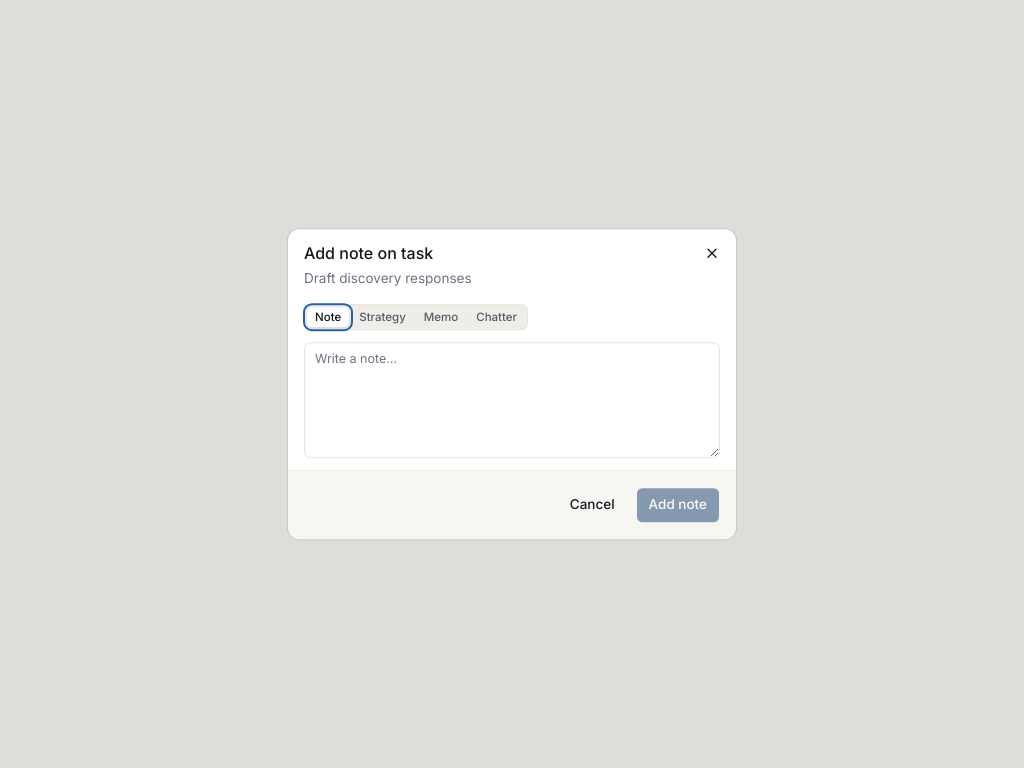
Test: AddNoteOnEntityDialog - form behavior › a failed submit keeps the typed text and the chosen type
Click the button "Strategy": (382,317) [351,307,414,327]
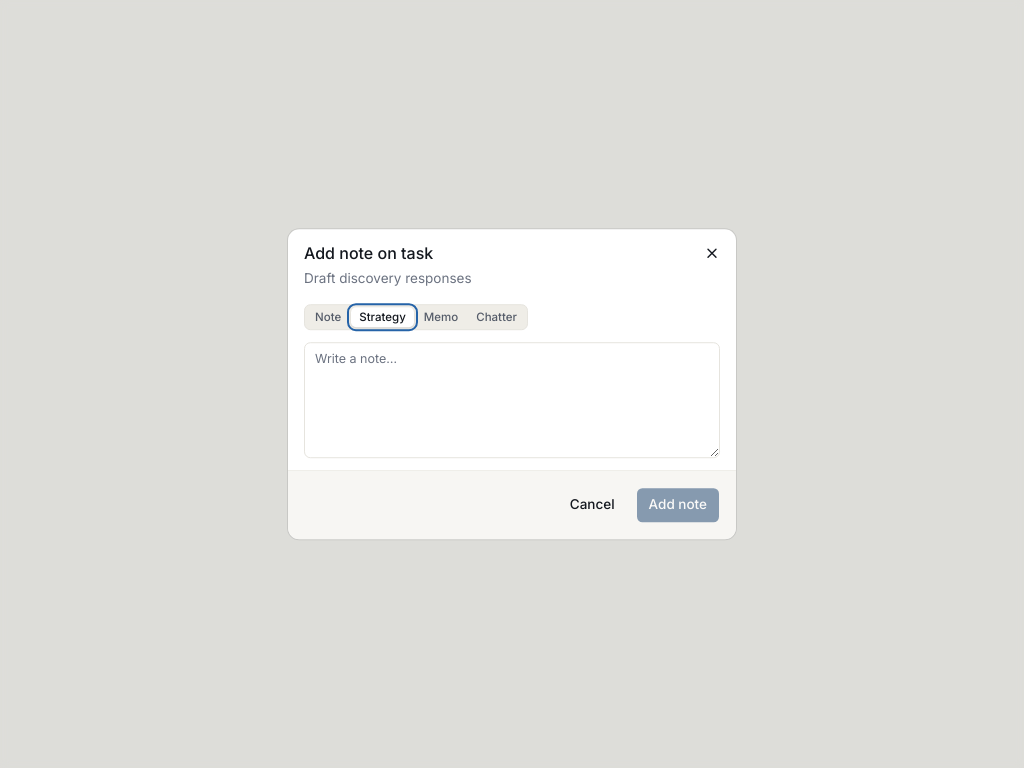
In the text box with placeholder "Write a note…": (512,400) [304,342,720,458], type "keep this"
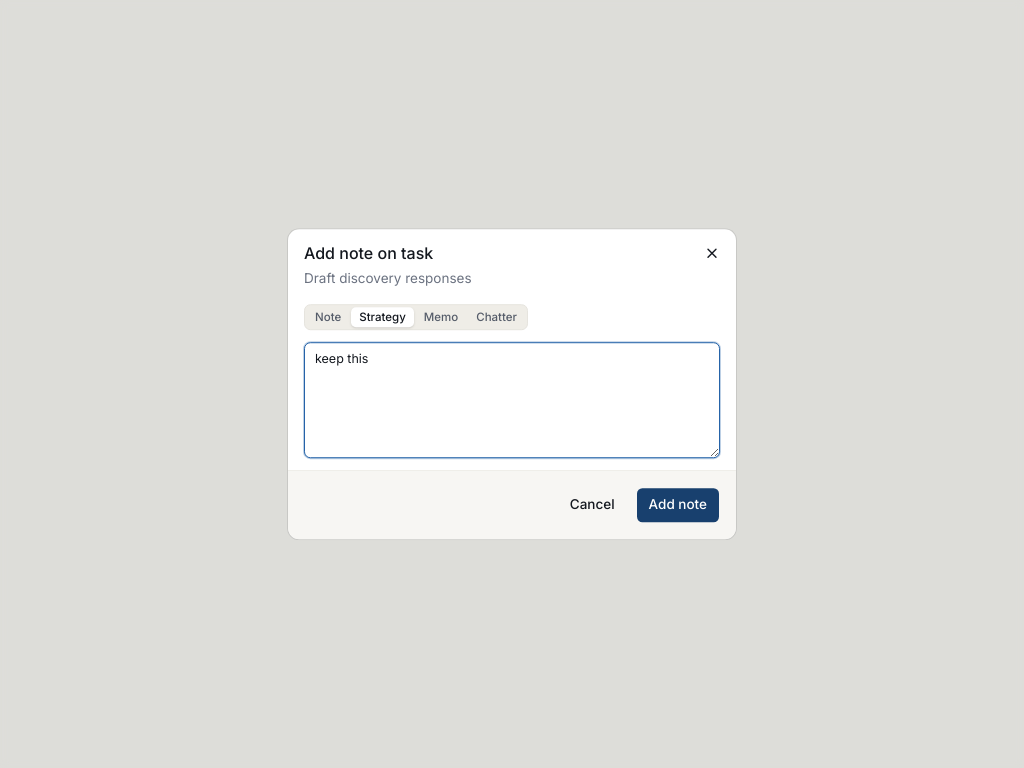
Click the button "Add note": (678,505) [636,487,720,523]
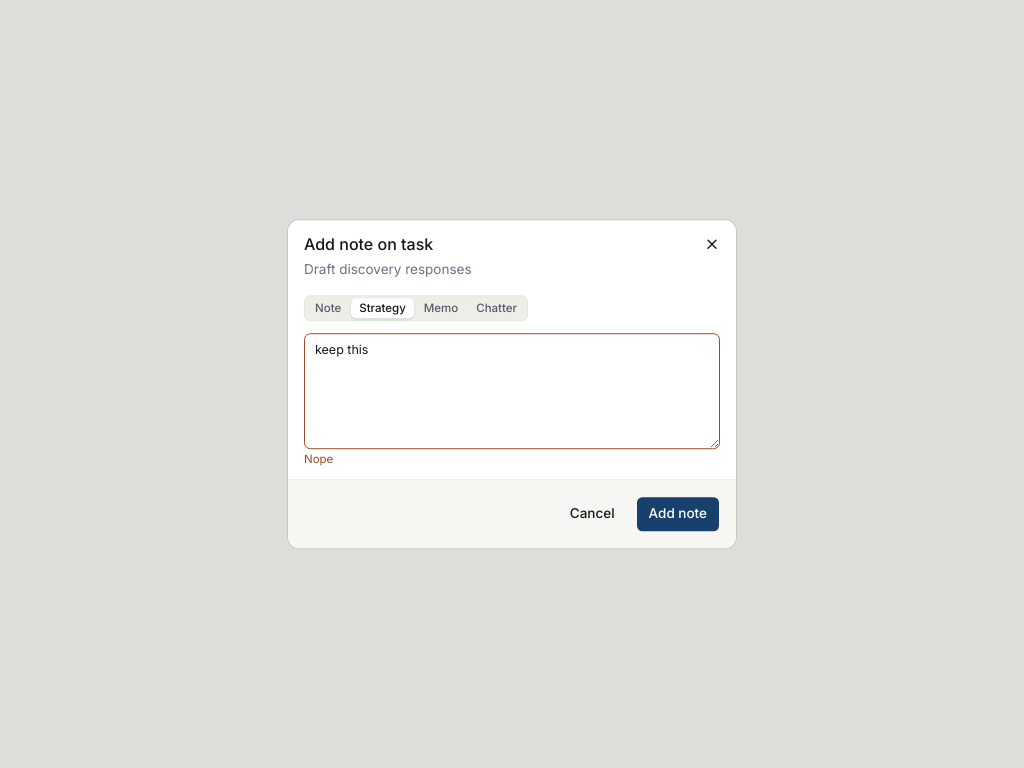
Expected: the text "Nope" is shown, [304,452,333,466]
